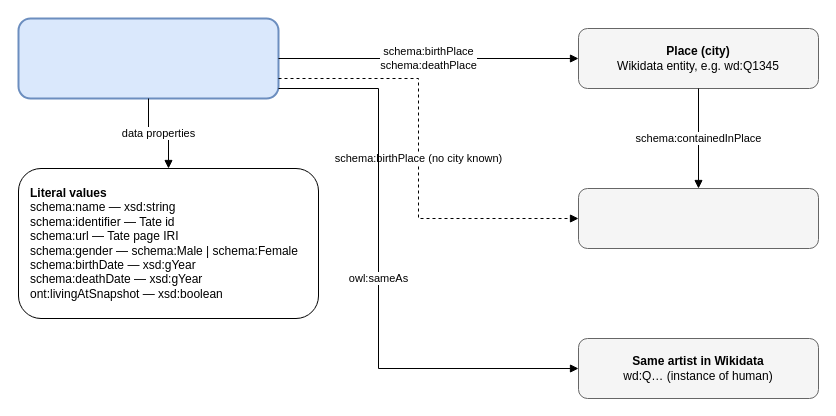
Image size: 836x416. Some labels were removed from this diagram. The shapes that lost their labels are listed below. From the top down, each one's box as (x1, y1, x2, y2) in pixels, then its label:
(17, 17, 279, 99): Artist schema:Person | foaf:Group …/group3/data#N
(578, 188, 818, 248): Country Wikidata entity, e.g. wd:Q30
